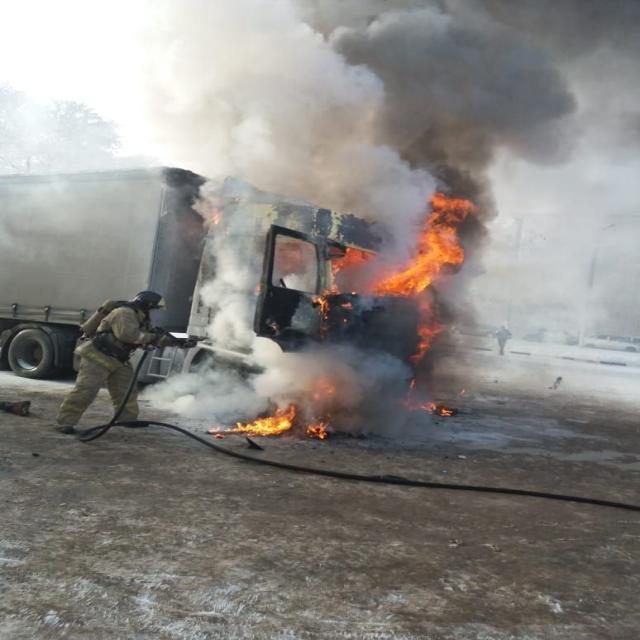Fire: (378, 196, 476, 296), (203, 394, 297, 442), (316, 246, 367, 313), (412, 302, 448, 362), (406, 395, 452, 417), (304, 422, 330, 441)
Smoke: (0, 0, 639, 419)
